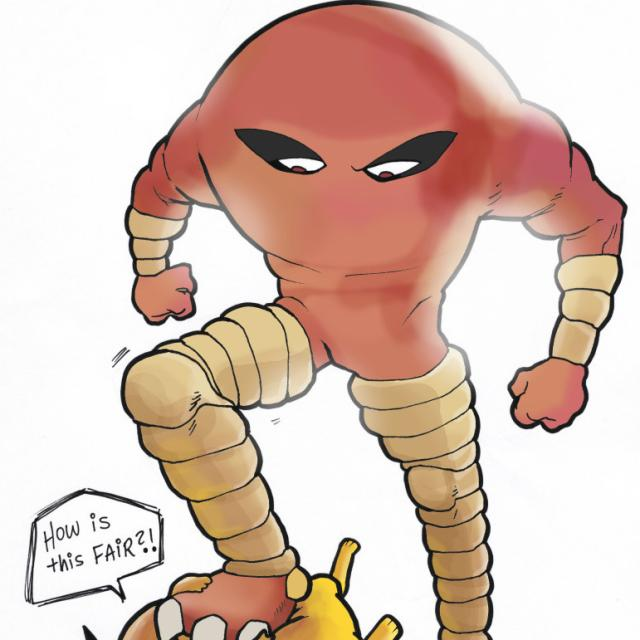Hitmonlee: (110, 0, 593, 640)
